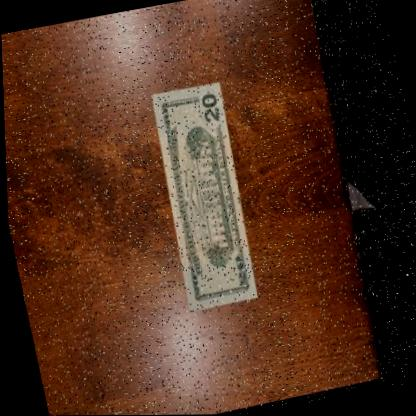twenty-back: (145, 80, 264, 312)
